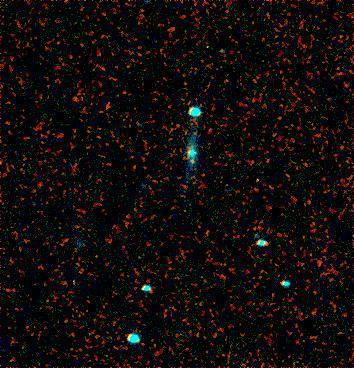star: (178, 145, 208, 175)
